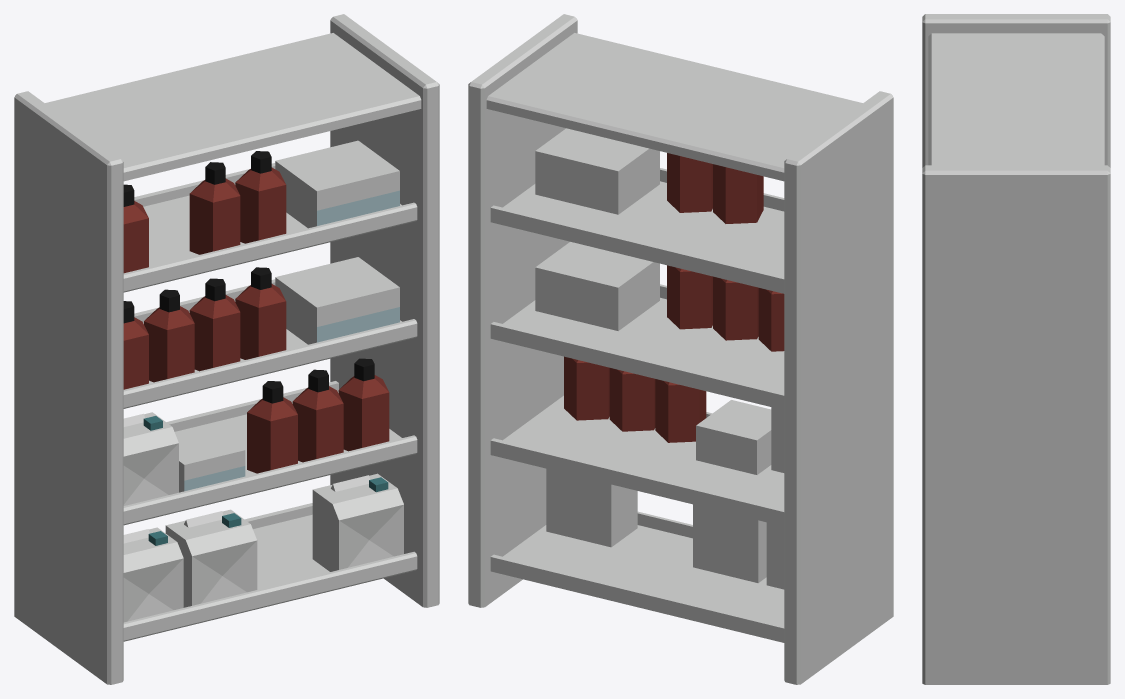
Rendered from chemical-shelving-rack-3a188c.glb.
The picture shows the model from 3 angles, left to right: view 1: azimuth 30°, elevation 25°; view 2: azimuth 150°, elevation 25°; view 3: azimuth 270°, elevation 25°; orthographic projection.
Parts seen in each view (by area): view 1: chemical-shelving-rack, jerrycan, winchester; view 2: chemical-shelving-rack, winchester, jerrycan; view 3: chemical-shelving-rack.
Boxes of the visible parts, x1,y1,x2,y2 form: chemical-shelving-rack: (14,14,439,684); jerrycan: (123,412,178,505); winchester: (144,289,194,382); chemical-shelving-rack: (468,14,893,684); winchester: (758,288,784,351); jerrycan: (771,407,784,472); chemical-shelving-rack: (922,14,1110,684).
Bounding box in the file's own units: 1.2 × 1.8 × 0.6.
